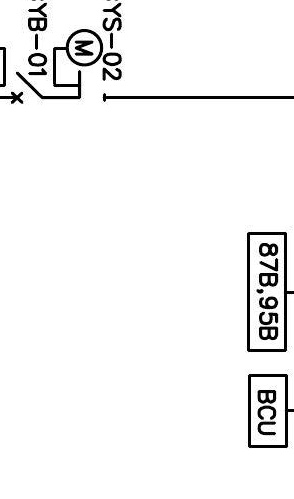115_1way_ds_w_motor: (53, 28, 107, 102)
115_breaker: (10, 71, 44, 105)
BCU: (247, 373, 289, 449)
